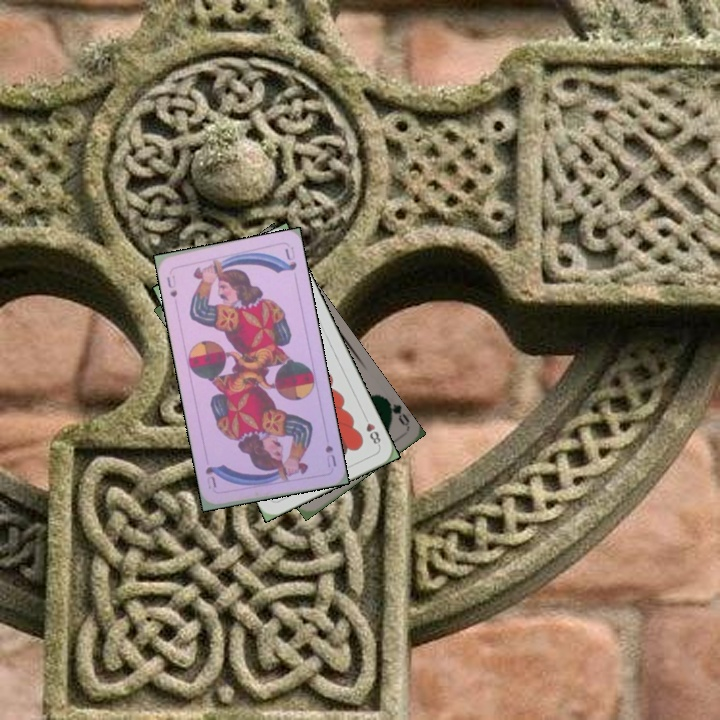GO: (380, 394, 412, 428)
H8: (359, 411, 383, 449)
SU: (321, 441, 339, 470), (162, 271, 180, 300)
